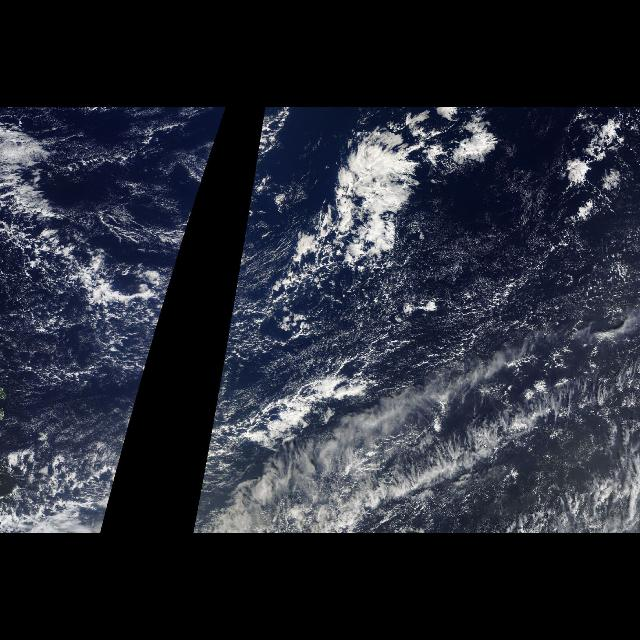Fish: (359, 339, 636, 533)
Gravel: (207, 212, 639, 446), (0, 172, 192, 446)
Sugar: (400, 216, 632, 358), (376, 459, 640, 533)
